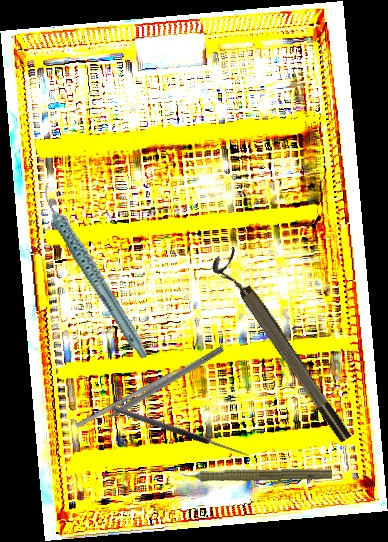Fixation Ring: (207, 246, 356, 451)
Handpiece: (39, 169, 151, 373), (172, 462, 333, 485)
Hook Surgical: (91, 344, 225, 429), (110, 397, 253, 459)
Pusher: (75, 358, 196, 429)
